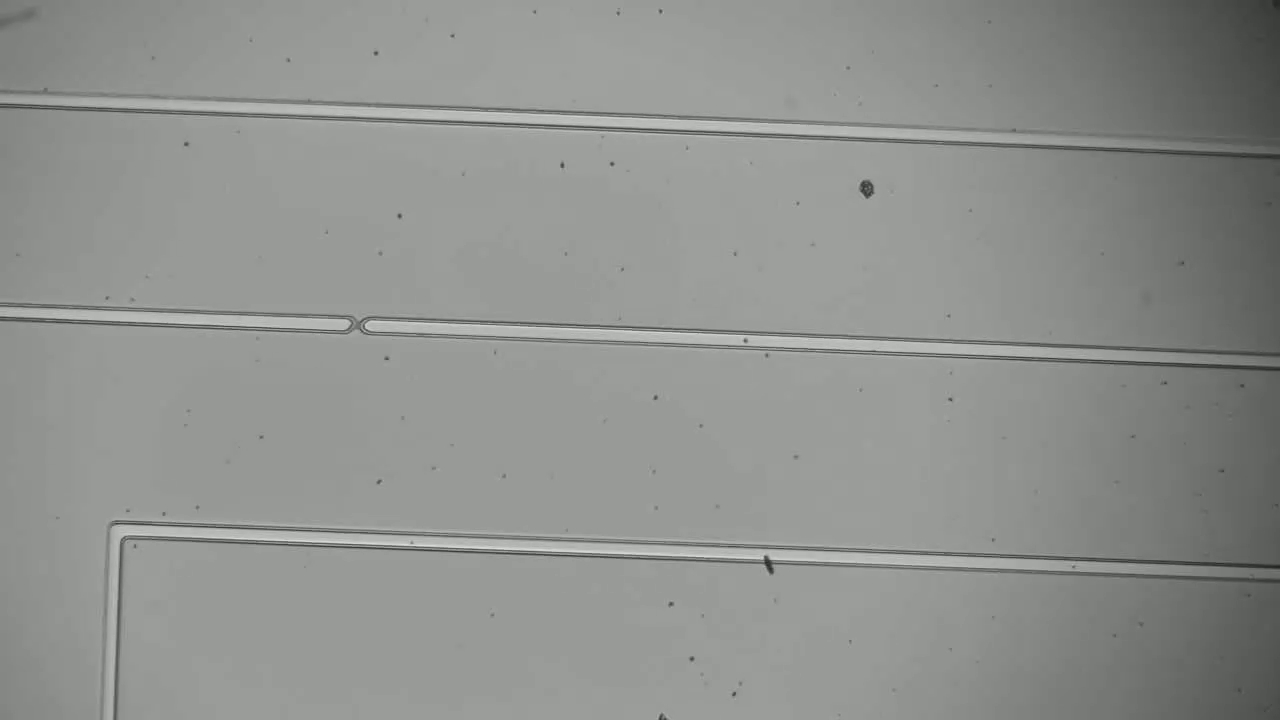open: (334, 304, 385, 348)
stains_enbedded: (754, 529, 788, 582)
